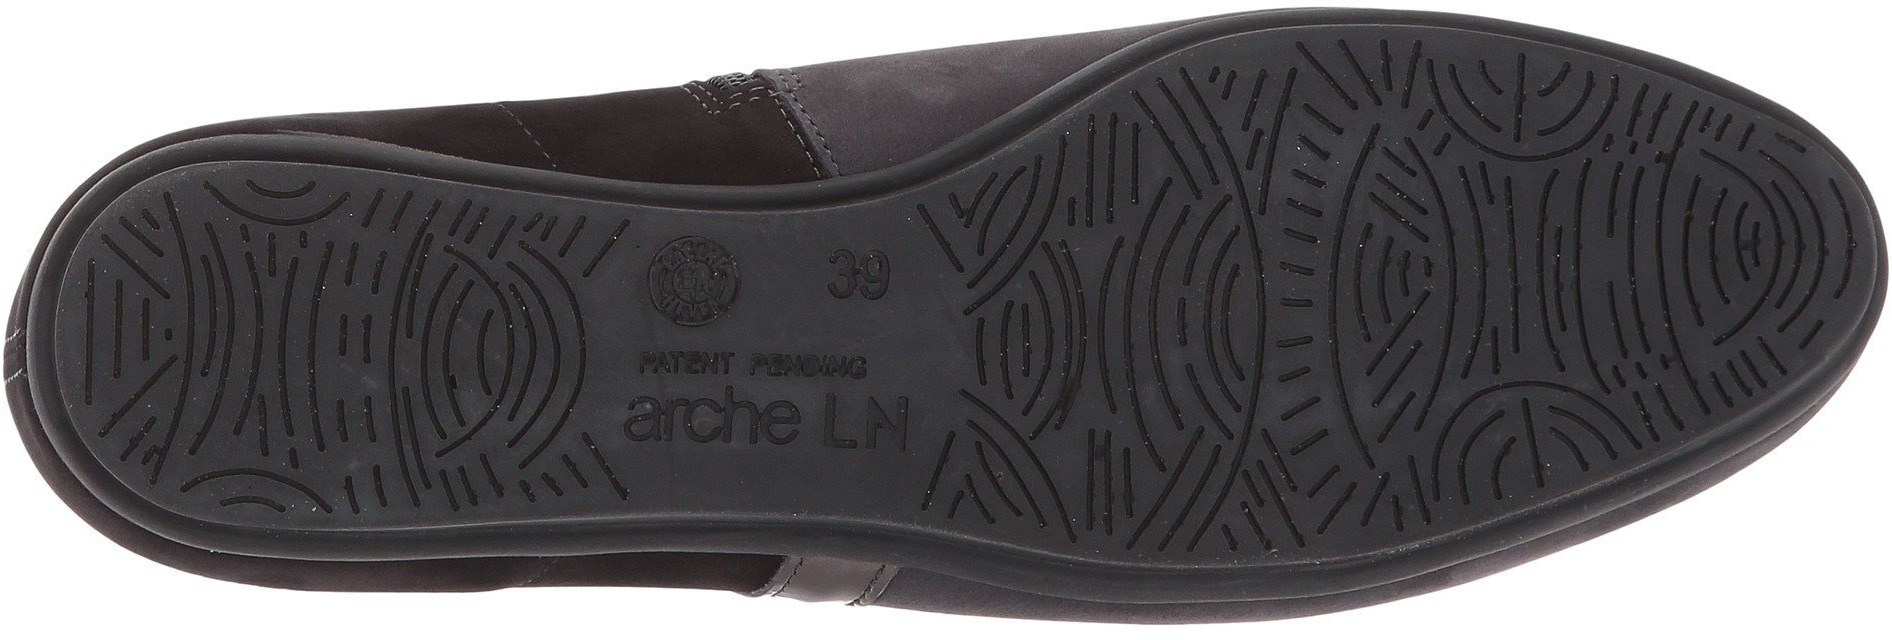circle: (637, 229, 749, 331)
line: (989, 126, 1430, 543), (1396, 97, 1748, 437), (112, 194, 405, 465), (417, 229, 602, 435), (1723, 178, 1852, 297)
other: (271, 198, 609, 511)
text: (611, 332, 941, 461), (637, 229, 749, 331), (810, 380, 923, 479), (617, 371, 728, 469), (717, 379, 812, 469), (816, 237, 899, 312)
